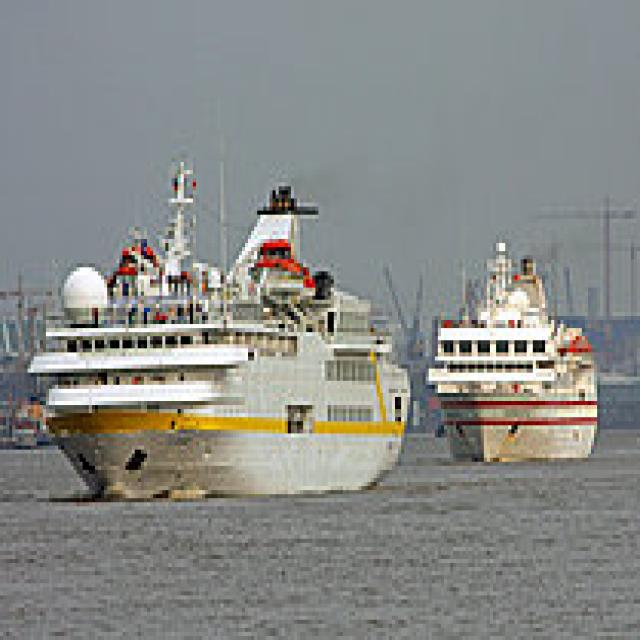Cruise: (21, 154, 408, 502), (420, 227, 597, 466)
